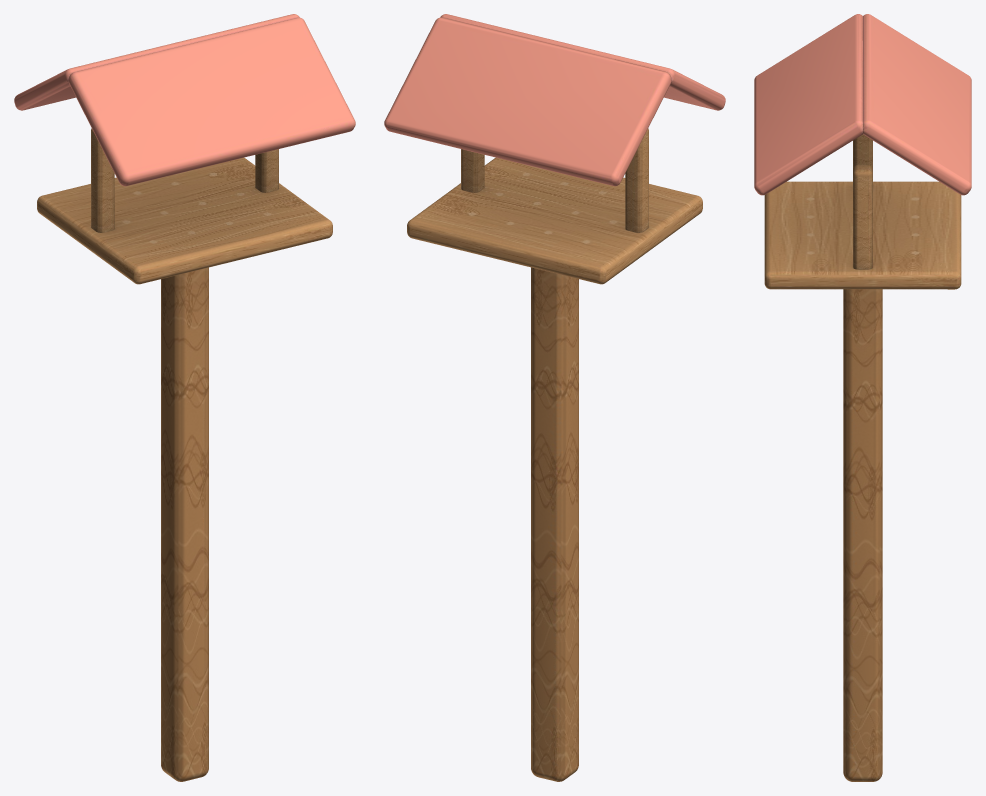
The model's file is bird_feeder.glb.
3 renders of one model, left to right at view 1: azimuth 30°, elevation 25°; view 2: azimuth 150°, elevation 25°; view 3: azimuth 270°, elevation 25°, orthographic. The views are drawn at different scales.
Parts seen in each view (by area): view 1: bird_feeder; view 2: bird_feeder; view 3: bird_feeder.
Boxes of the visible parts, left/top/right/bottom form: bird_feeder: left=14, top=14, right=355, bottom=781; bird_feeder: left=384, top=14, right=725, bottom=781; bird_feeder: left=754, top=14, right=971, bottom=781.
Size of the model in its own units: 0.4 by 1.19 by 0.3312.
1 material, 1 textured.
